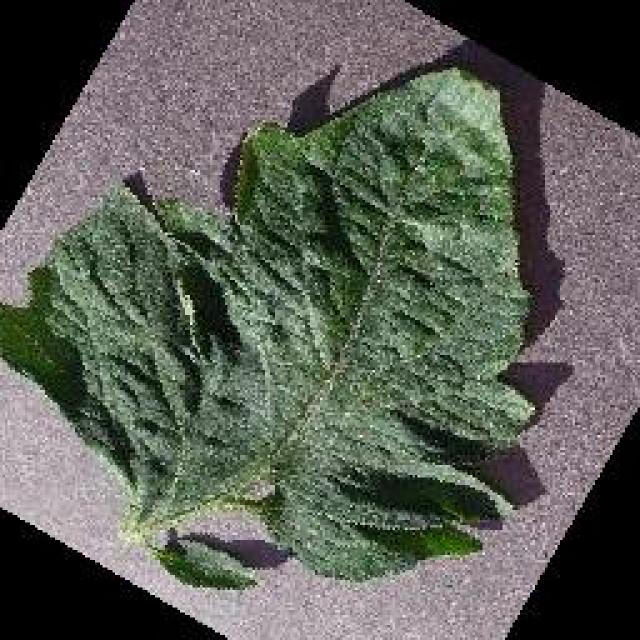Tomato___Target_Spot: (0, 68, 530, 582)
